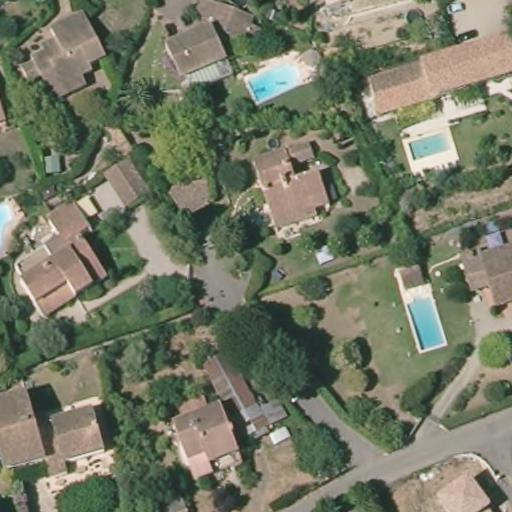pool: (403, 288, 448, 353), (243, 61, 305, 103), (404, 126, 451, 164)
